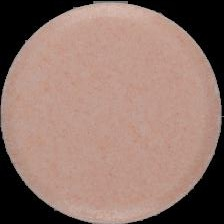67046-276: (0, 0, 224, 224)
